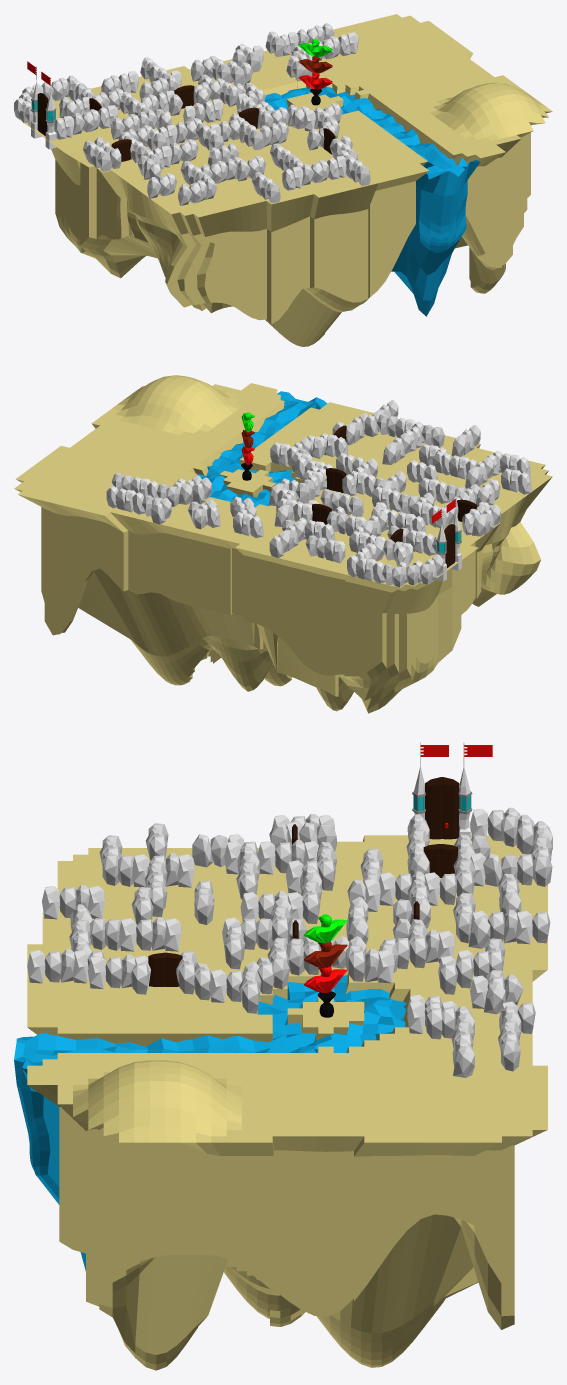
The model's file is ile été0.FBX.
3 views of the same model, one above another, from view 1: azimuth 30°, elevation 25°; view 2: azimuth 150°, elevation 25°; view 3: azimuth 270°, elevation 25° (orthographic). The views are drawn at different scales.
Parts seen in each view (by area): view 1: Ile été, PillierG; view 2: Ile été, PillierG; view 3: Ile été, PillierG, PorteD, PorteG.
Boxes of the visible parts, left/top/right/bottom form: Ile été: left=16, top=14, right=552, bottom=346; PillierG: left=27, top=61, right=56, bottom=149; Ile été: left=14, top=375, right=552, bottom=713; PillierG: left=432, top=497, right=461, bottom=581; Ile été: left=14, top=835, right=547, bottom=1370; PillierG: left=412, top=742, right=492, bottom=838; PorteD: left=442, top=777, right=459, bottom=839; PorteG: left=425, top=777, right=442, bottom=839.
Size of the model in its own units: 492 by 313 by 363.
